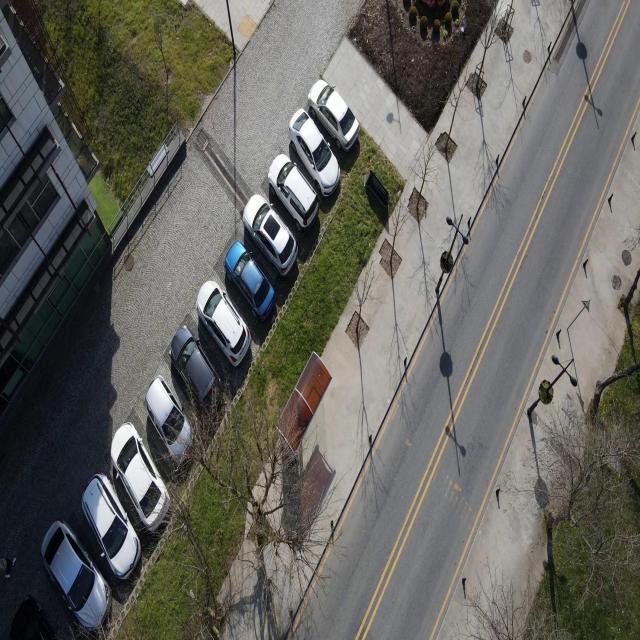p3rson: (0, 556, 16, 578)
